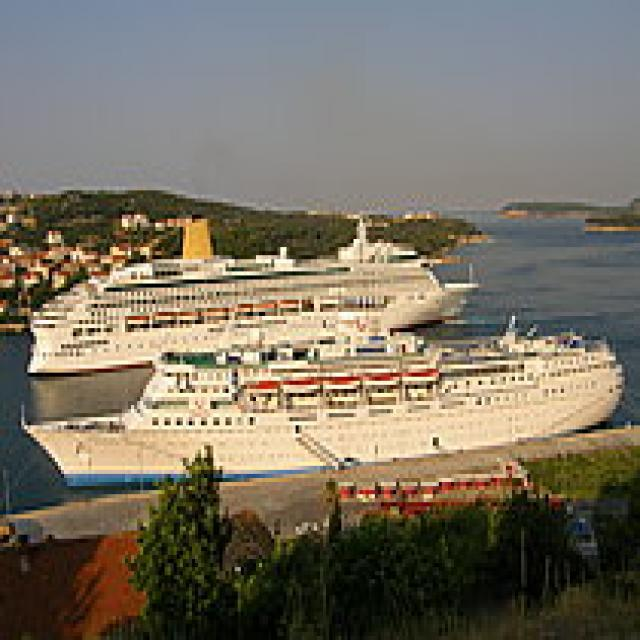Ship: (16, 346, 638, 500), (16, 212, 486, 386)
